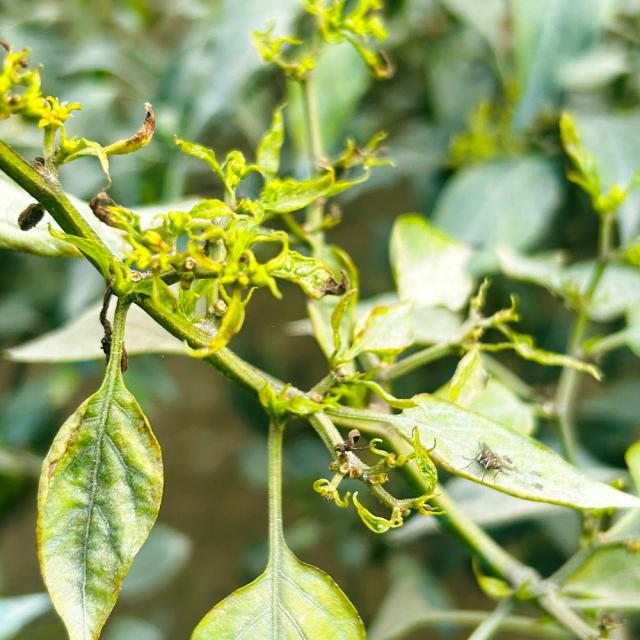Chilli_Leaf_Curl: (1, 1, 638, 638), (89, 102, 395, 358), (189, 410, 367, 638), (317, 388, 638, 512), (35, 348, 165, 638), (312, 425, 444, 534)
